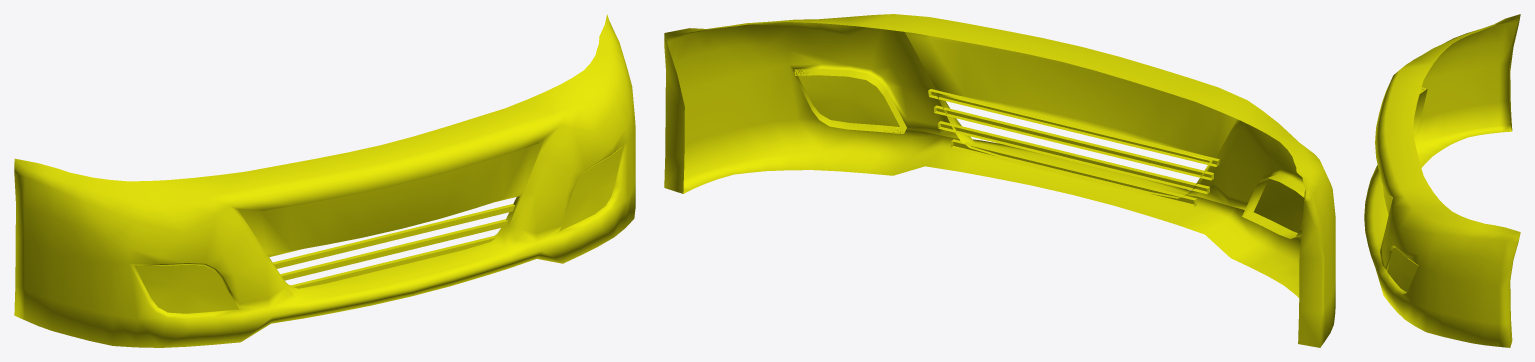
The model's file is Accent_V4_Front_Bumper.fbx.
3 renders of one model, left to right at view 1: azimuth 30°, elevation 25°; view 2: azimuth 150°, elevation 25°; view 3: azimuth 270°, elevation 25°, orthographic. The views are drawn at different scales.
Parts seen in each view (by area): view 1: Accent_V4_Front_Bumper; view 2: Accent_V4_Front_Bumper; view 3: Accent_V4_Front_Bumper.
Part boxes in pixels (x1,y1,x2,y2): Accent_V4_Front_Bumper: (14,14,635,347); Accent_V4_Front_Bumper: (664,14,1335,347); Accent_V4_Front_Bumper: (1364,14,1520,347).
Size of the model in its own units: 29.65 by 7.01 by 8.78.
